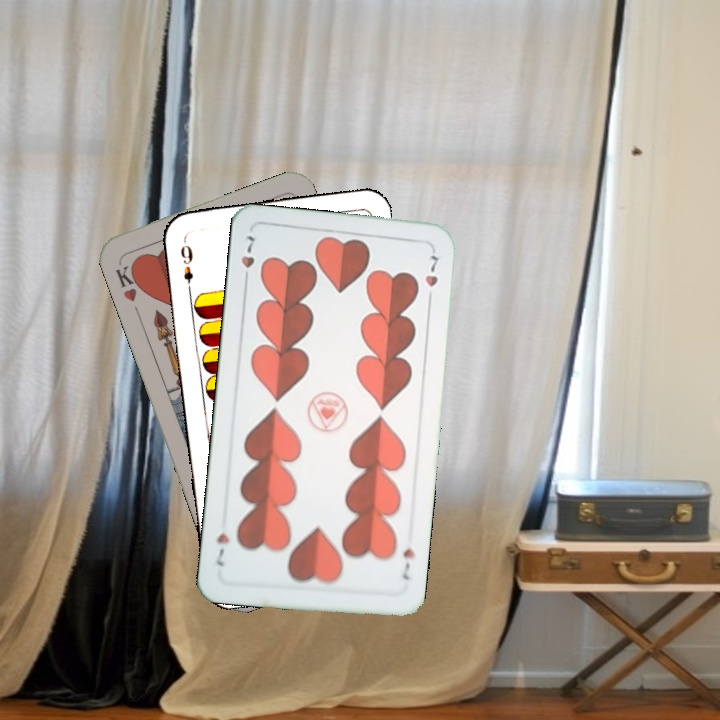E9: (176, 235, 196, 295)
H7: (237, 232, 258, 288), (398, 544, 418, 583)
HK: (111, 259, 146, 304)
